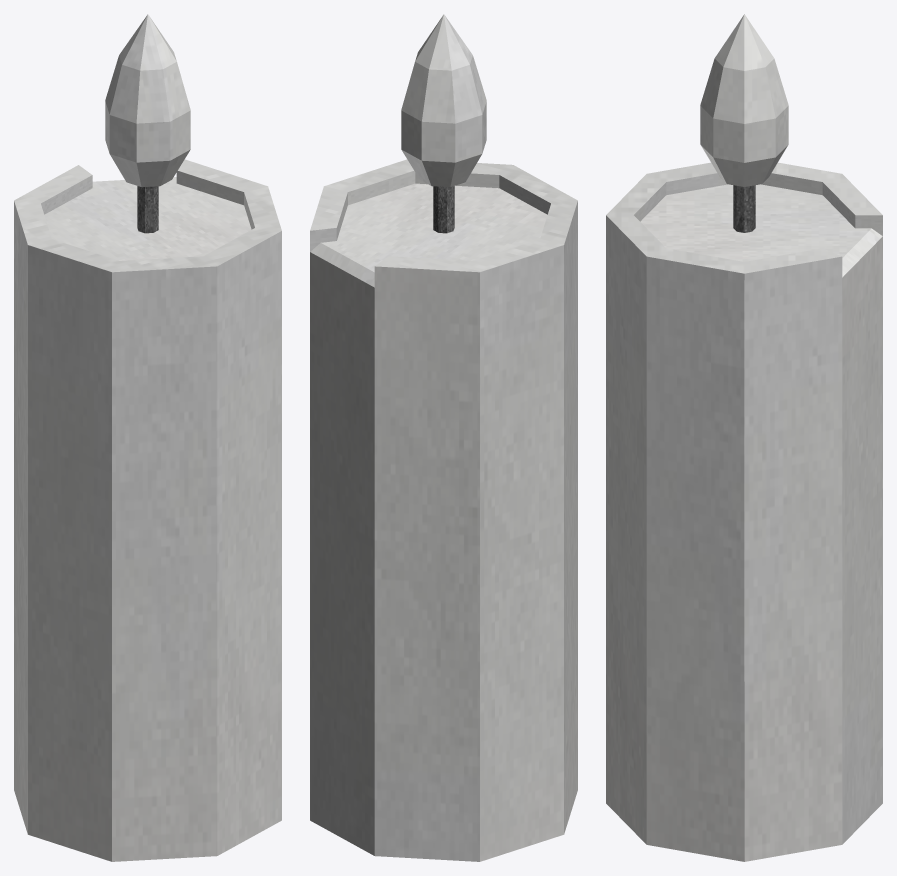
Rendered from Velas_mediana.fbx.
3 views of the same model, side by side, from view 1: azimuth 30°, elevation 25°; view 2: azimuth 150°, elevation 25°; view 3: azimuth 270°, elevation 25° (orthographic).
Parts seen in each view (by area): view 1: Vela_mediana; view 2: Vela_mediana; view 3: Vela_mediana.
Part boxes in pixels (left/top/right/bottom): Vela_mediana: left=14, top=14, right=281, bottom=861; Vela_mediana: left=310, top=14, right=577, bottom=861; Vela_mediana: left=606, top=14, right=882, bottom=861.
Bounding box in the file's own units: 2 × 6.3 × 2.
Materials: 1 (1 with a texture image).
